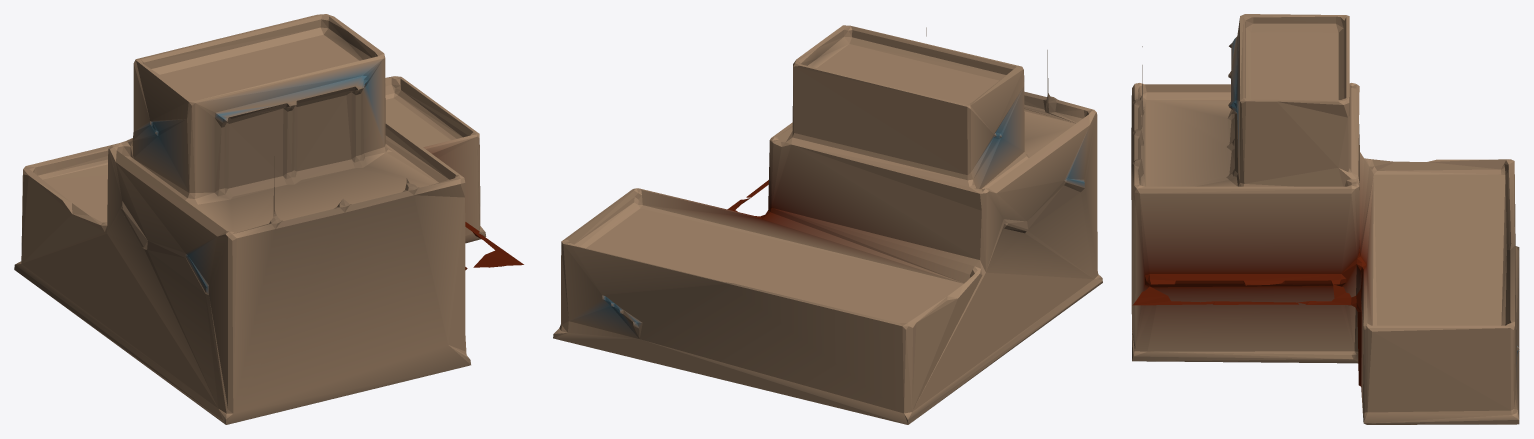
File: Desert Houses.glb
3 renders of one model, left to right at view 1: azimuth 30°, elevation 25°; view 2: azimuth 150°, elevation 25°; view 3: azimuth 270°, elevation 25°, orthographic. The views are drawn at different scales.
Parts seen in each view (by area): view 1: Root; view 2: Root; view 3: Root.
Boxes of the visible parts, bbox=[...] form: Root: bbox=[14, 14, 523, 424]; Root: bbox=[553, 25, 1102, 424]; Root: bbox=[1131, 14, 1519, 424].
Size of the model in its own units: 10.09 by 6.83 by 9.56.
